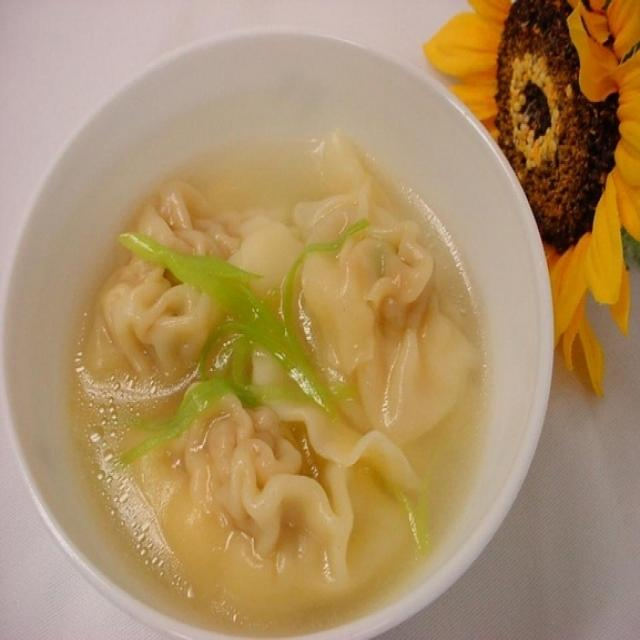汤锅炖物: (28, 61, 514, 612)
